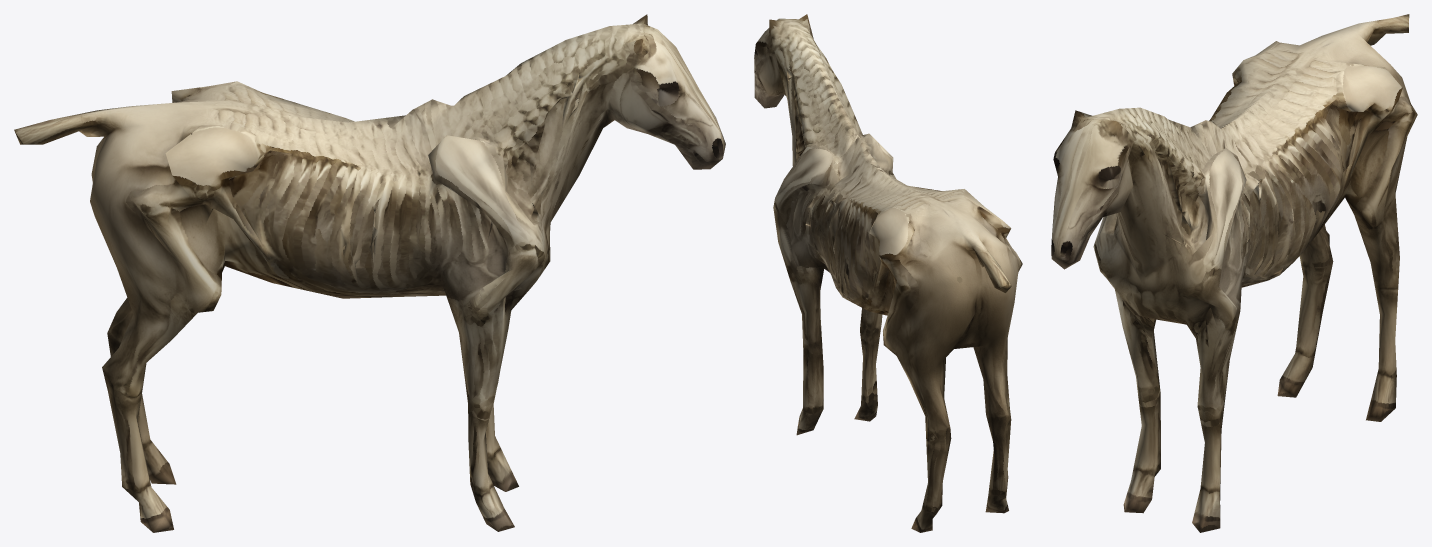
Rendered from skeleton_horse_single_1500.glb.
3 views of the same model, side by side, from view 1: azimuth 30°, elevation 25°; view 2: azimuth 150°, elevation 25°; view 3: azimuth 270°, elevation 25° (orthographic). The views are drawn at different scales.
Size of the model in its own units: 0.8554 by 0.7606 by 0.5607.
Materials: 1 (1 with a texture image).
